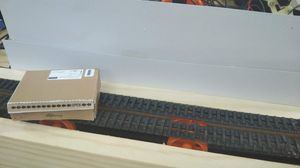box2: (6, 67, 102, 122)
